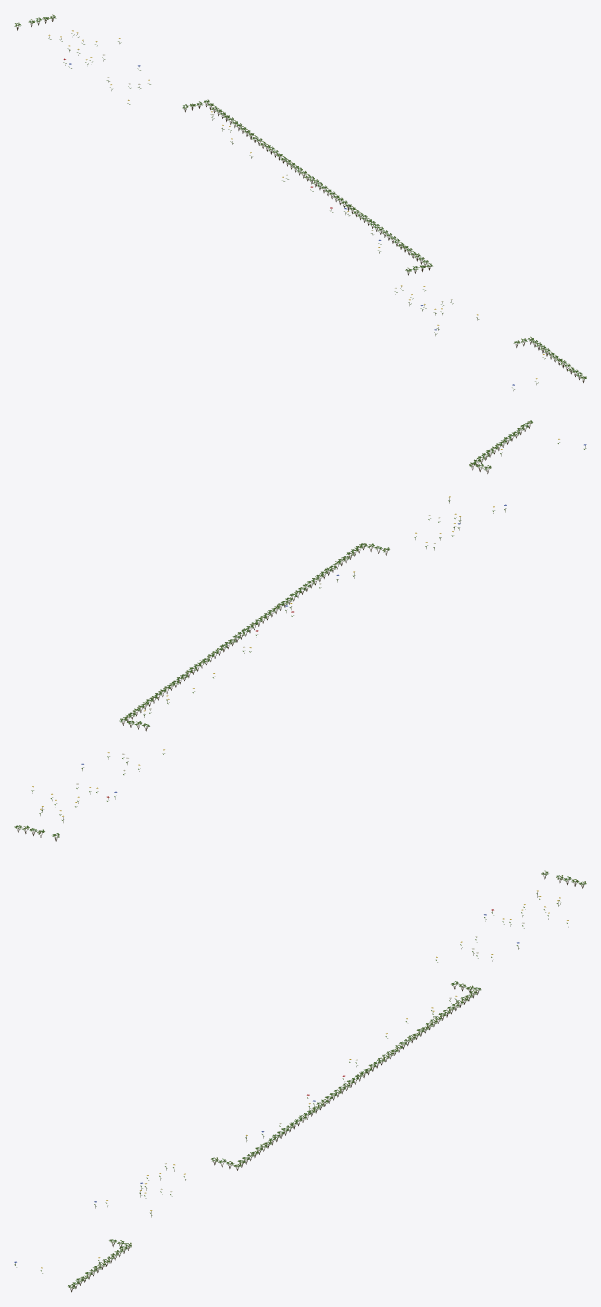
The picture shows the model from 3 angles, top to bottom: view 1: azimuth 30°, elevation 25°; view 2: azimuth 150°, elevation 25°; view 3: azimuth 330°, elevation 25°; orthographic projection. The views are drawn at different scales.
Parts seen in each view (by area): view 1: GROUND_FLORA_s_-4_4; view 2: GROUND_FLORA_s_-4_4; view 3: GROUND_FLORA_s_-4_4.
Part boxes in pixels (x1=…): GROUND_FLORA_s_-4_4: x1=14, y1=14, x2=586, y2=390; GROUND_FLORA_s_-4_4: x1=14, y1=420, x2=586, y2=841; GROUND_FLORA_s_-4_4: x1=14, y1=870, x2=586, y2=1292.
Size of the model in its own units: 9.99 by 0.9729 by 125.
